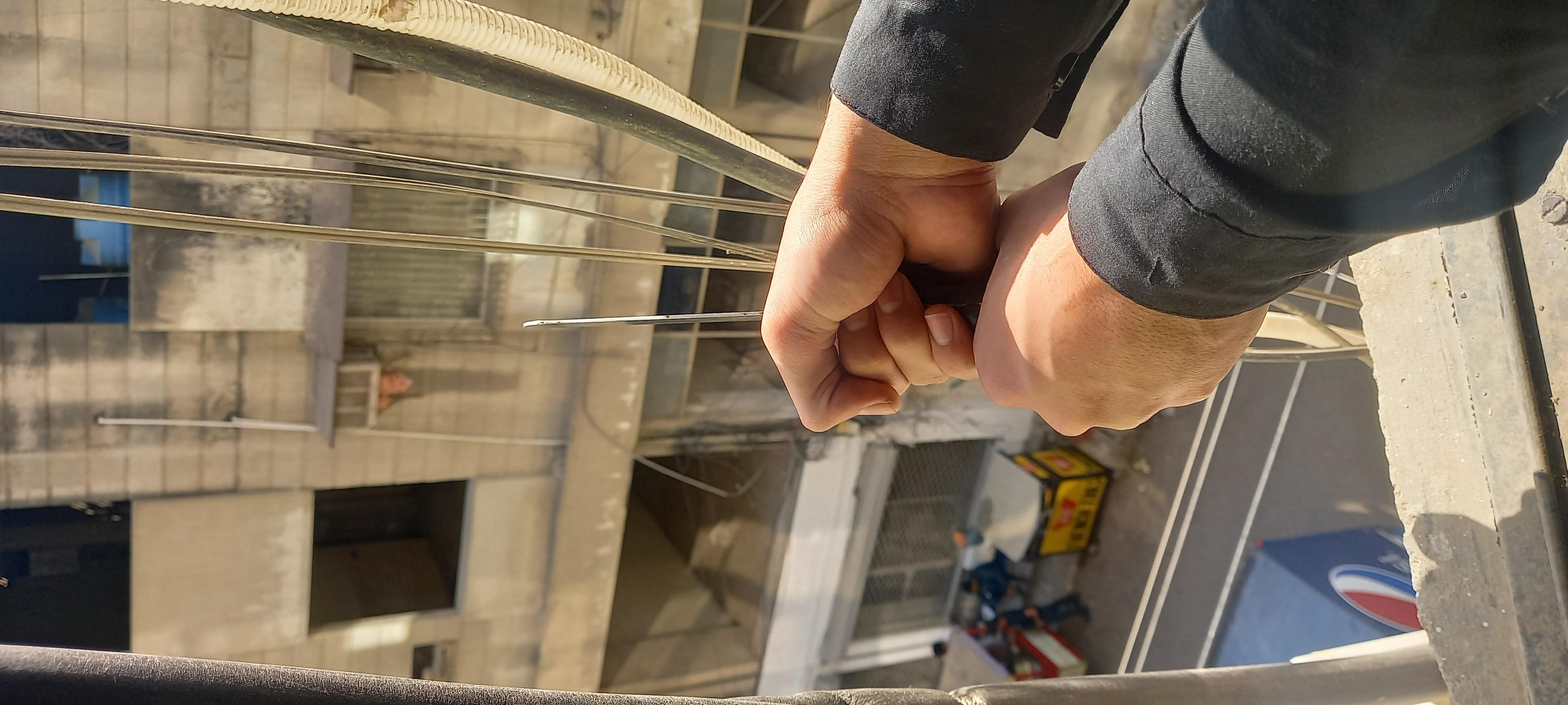knives: (765, 226, 909, 435)
